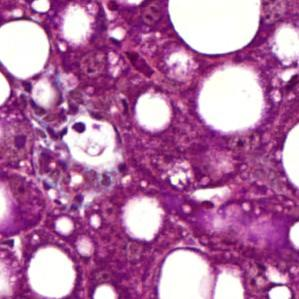steatosis: (192, 63, 267, 136), (0, 17, 52, 81), (19, 248, 78, 294)
